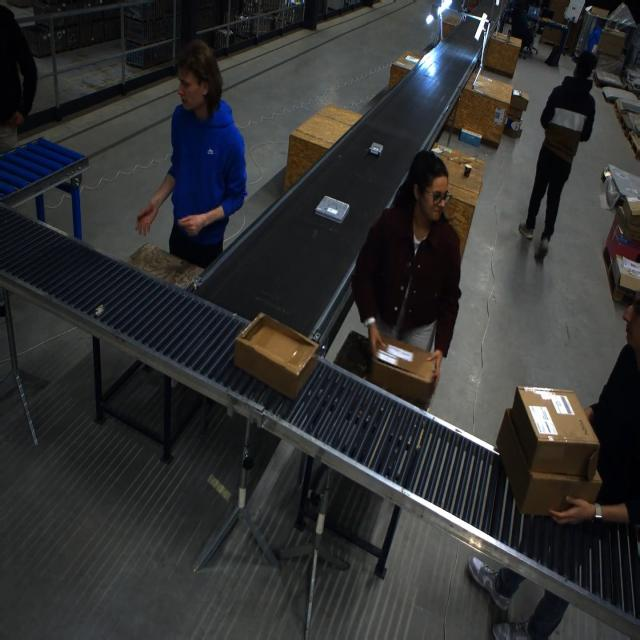box: (496, 387, 603, 518), (234, 314, 319, 401), (364, 333, 436, 408)
product: (308, 191, 361, 232), (361, 137, 390, 167)
